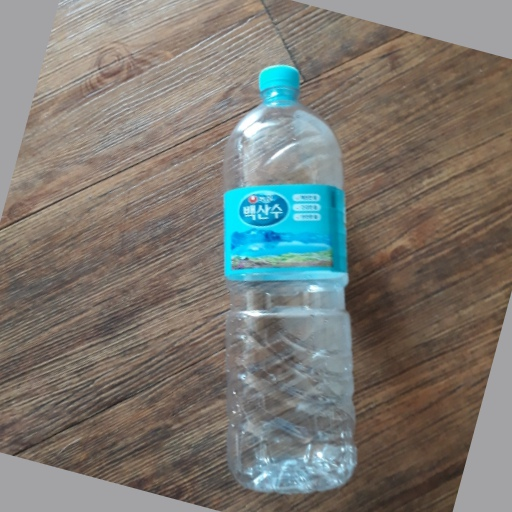Plastic_0: (221, 65, 359, 495)
